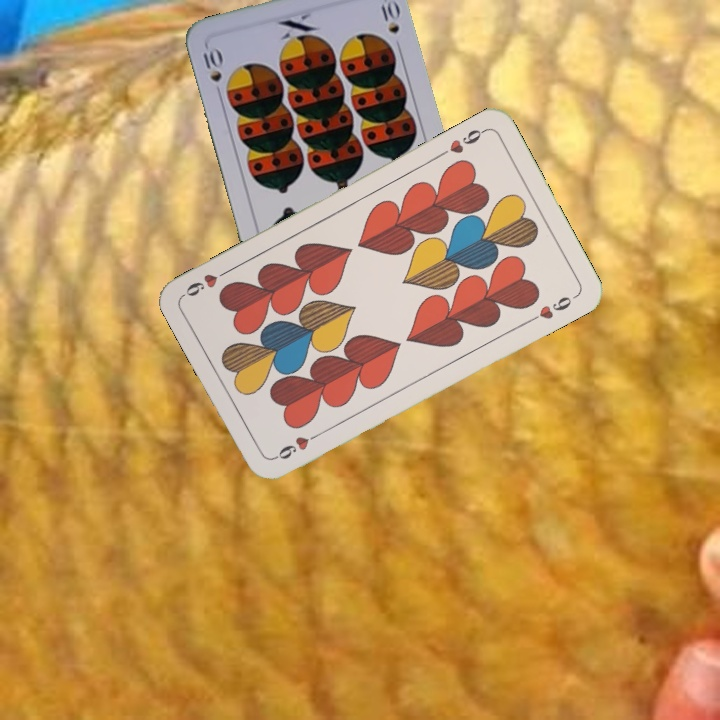H9: (435, 124, 489, 160), (269, 428, 324, 462)
S10: (199, 42, 225, 101)
